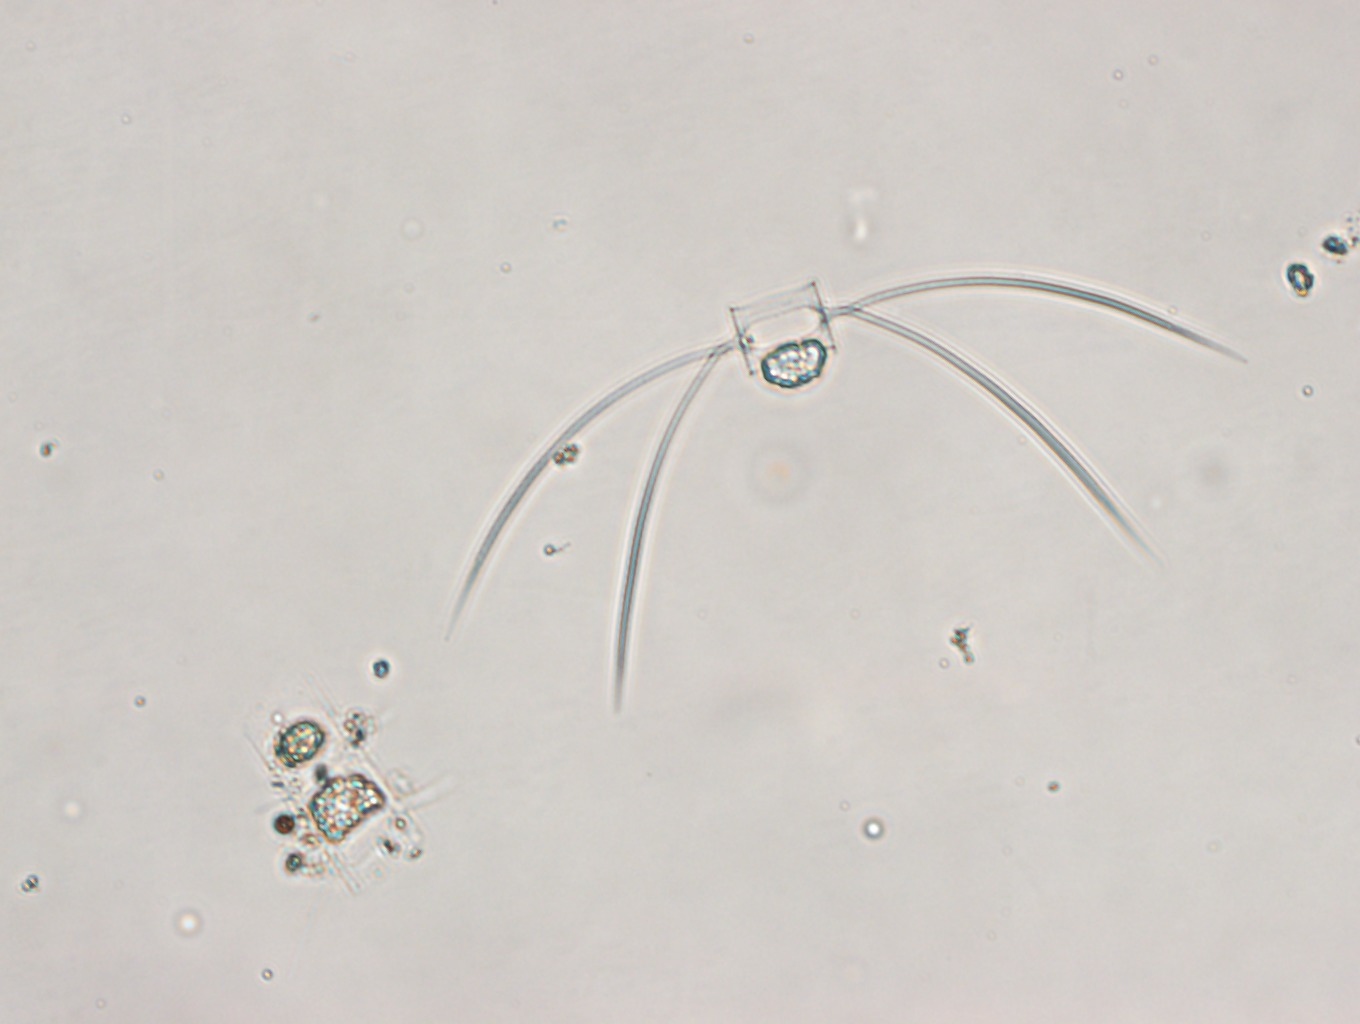chaetoceros: (446, 275, 1252, 717), (240, 684, 452, 899)
